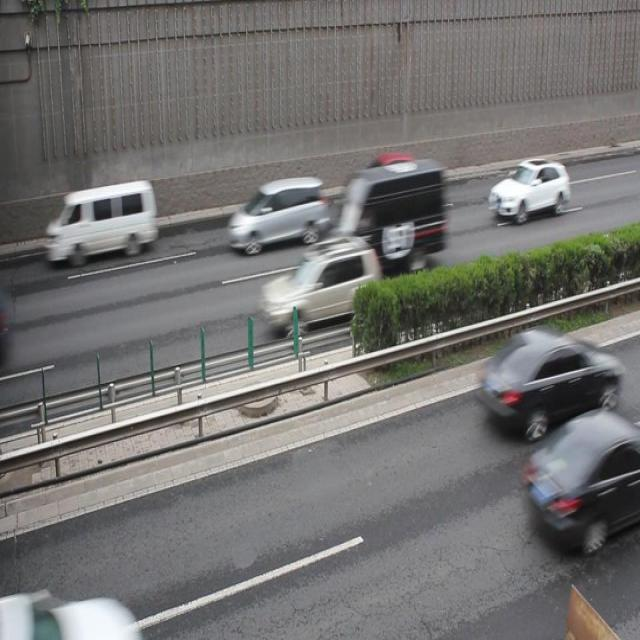car: (523, 408, 640, 553), (478, 324, 613, 436), (329, 160, 446, 268), (260, 234, 380, 330), (0, 588, 138, 640), (487, 157, 568, 220), (356, 154, 426, 212)
truck: (48, 179, 157, 263), (226, 176, 328, 252)
